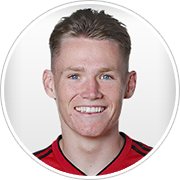face: (41, 51, 138, 126)
